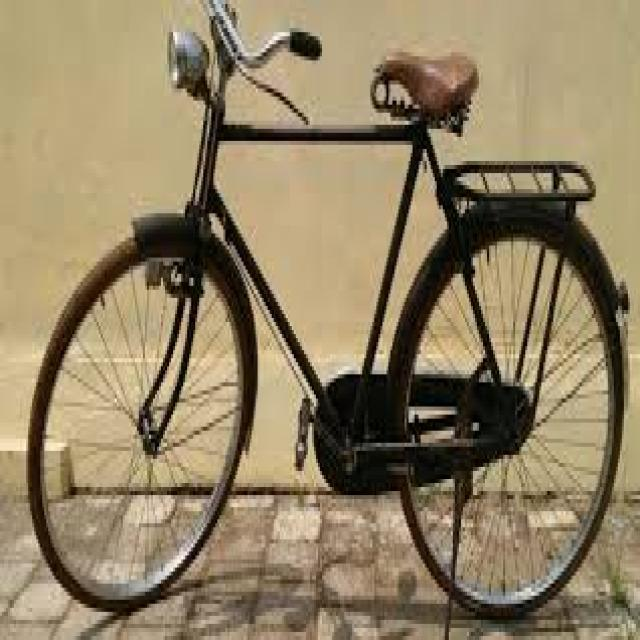bicycle: (30, 29, 640, 633)
